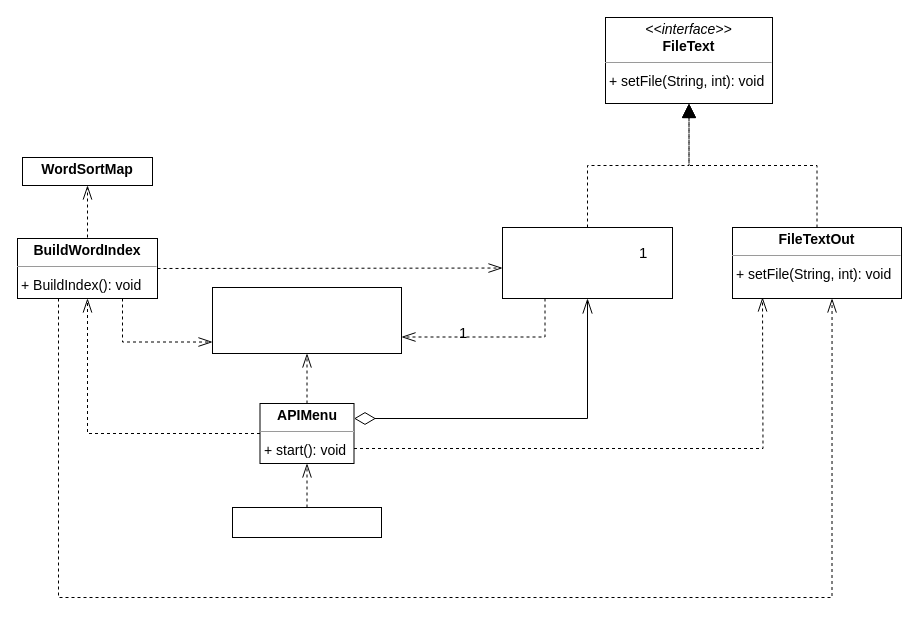
This 919x629 diagram has some shape labels left out. The shapes that lost their labels are listed below. From the top down, each one's centre as x and y in pixels, then its label:
At [587,262]: "FileTextImpl + setFile(String, int): void".
At [307,320]: "ProcessParseFile + parseFile(String, int): void".
At [307,522]: "Runner".
